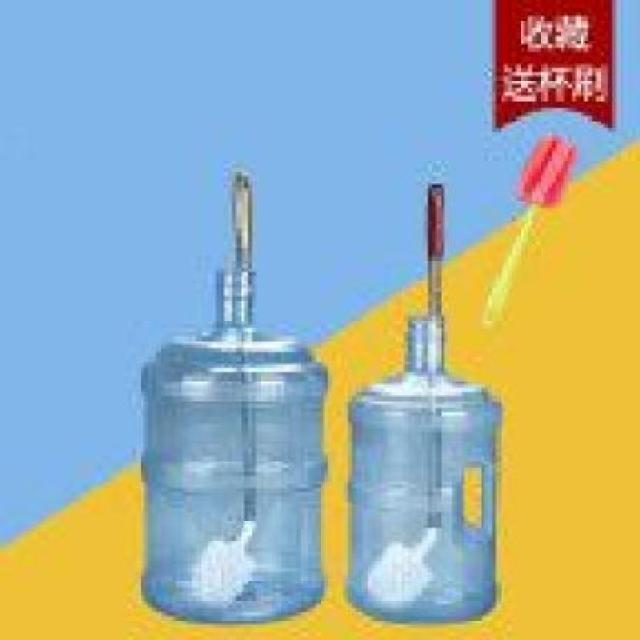coolerbottle: (138, 262, 334, 628), (340, 309, 512, 630)
